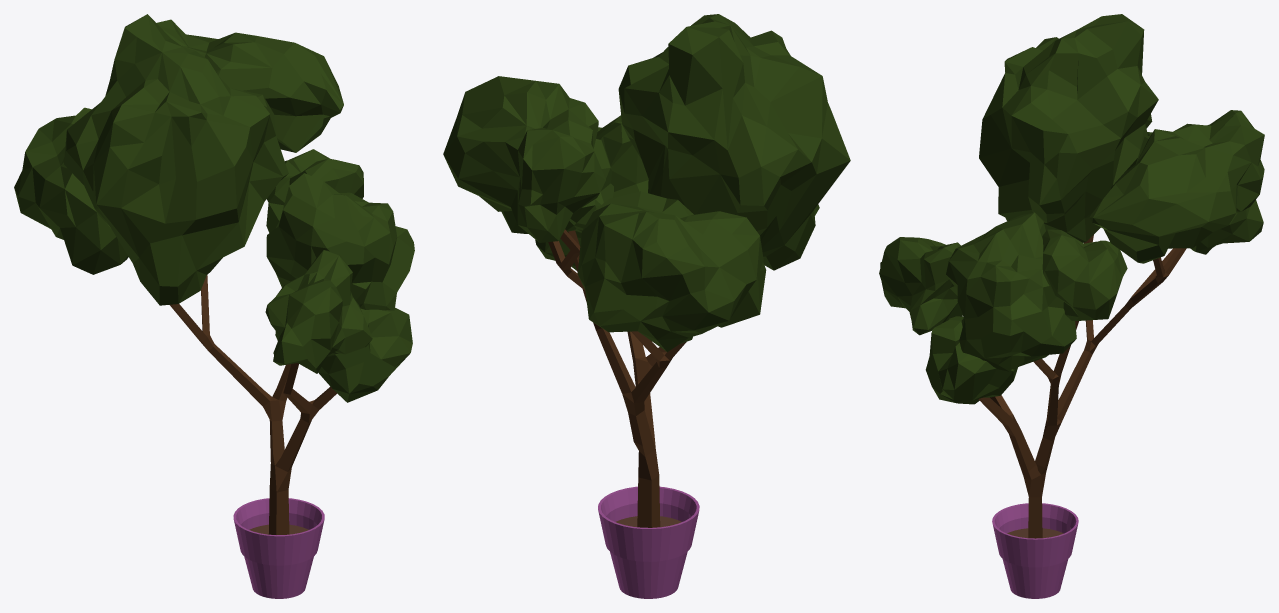
Rendered from roslina.fbx.
3 renders of one model, left to right at view 1: azimuth 30°, elevation 25°; view 2: azimuth 150°, elevation 25°; view 3: azimuth 270°, elevation 25°, orthographic. The views are drawn at different scales.
Parts seen in each view (by area): view 1: Low poly tree 2|Crown_L_low_poly_tree_2_blend_573efb4e-e0ee-, Sphere, Low poly tree 2|Trunk_L_low_poly_tree_2_blend_573efb4e-e0ee-; view 2: Low poly tree 2|Crown_L_low_poly_tree_2_blend_573efb4e-e0ee-, Sphere, Low poly tree 2|Trunk_L_low_poly_tree_2_blend_573efb4e-e0ee-; view 3: Low poly tree 2|Crown_L_low_poly_tree_2_blend_573efb4e-e0ee-, Low poly tree 2|Trunk_L_low_poly_tree_2_blend_573efb4e-e0ee-, Sphere.
Boxes of the visible parts, x1,y1,x2,y2 form: Low poly tree 2|Crown_L_low_poly_tree_2_blend_573efb4e-e0ee-: (14,14,414,402); Sphere: (233,498,324,598); Low poly tree 2|Trunk_L_low_poly_tree_2_blend_573efb4e-e0ee-: (169,275,336,534); Low poly tree 2|Crown_L_low_poly_tree_2_blend_573efb4e-e0ee-: (443,14,850,352); Sphere: (598,486,699,598); Low poly tree 2|Trunk_L_low_poly_tree_2_blend_573efb4e-e0ee-: (548,229,686,527); Low poly tree 2|Crown_L_low_poly_tree_2_blend_573efb4e-e0ee-: (879,14,1264,404); Low poly tree 2|Trunk_L_low_poly_tree_2_blend_573efb4e-e0ee-: (978,235,1186,538); Sphere: (992,503,1078,598).
Bounding box in the file's own units: 766 × 1347 × 890.
